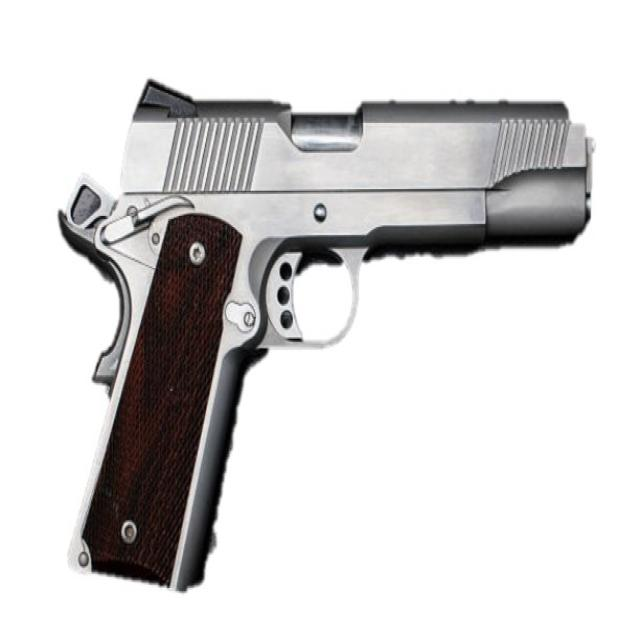pistol: (56, 77, 604, 596)
